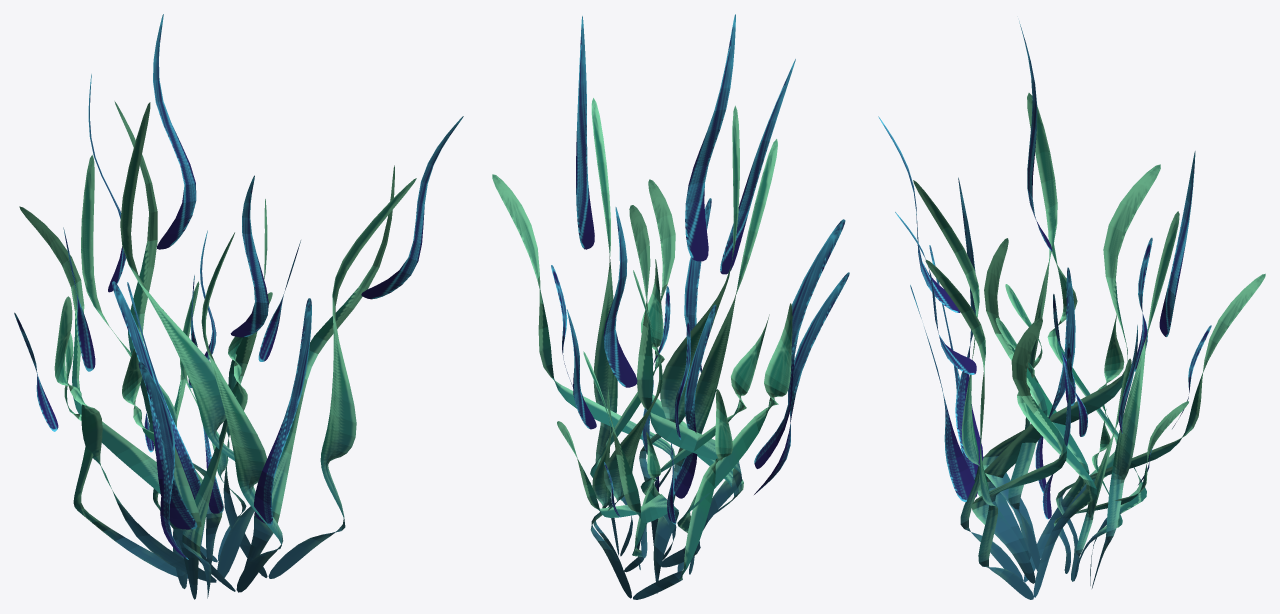
File: P_Longpipe.fbx
3 renders of one model, left to right at view 1: azimuth 30°, elevation 25°; view 2: azimuth 150°, elevation 25°; view 3: azimuth 270°, elevation 25°, orthographic. The views are drawn at different scales.
Visible parts, largest first — view 1: Plant_Longpipe.002; view 2: Plant_Longpipe.002; view 3: Plant_Longpipe.002.
Boxes of the visible parts, box(x1,y1,x2,y2) form: Plant_Longpipe.002: box(14, 14, 463, 599); Plant_Longpipe.002: box(492, 14, 849, 599); Plant_Longpipe.002: box(878, 21, 1265, 599).
Size of the model in its own units: 73.66 by 131 by 84.09.
